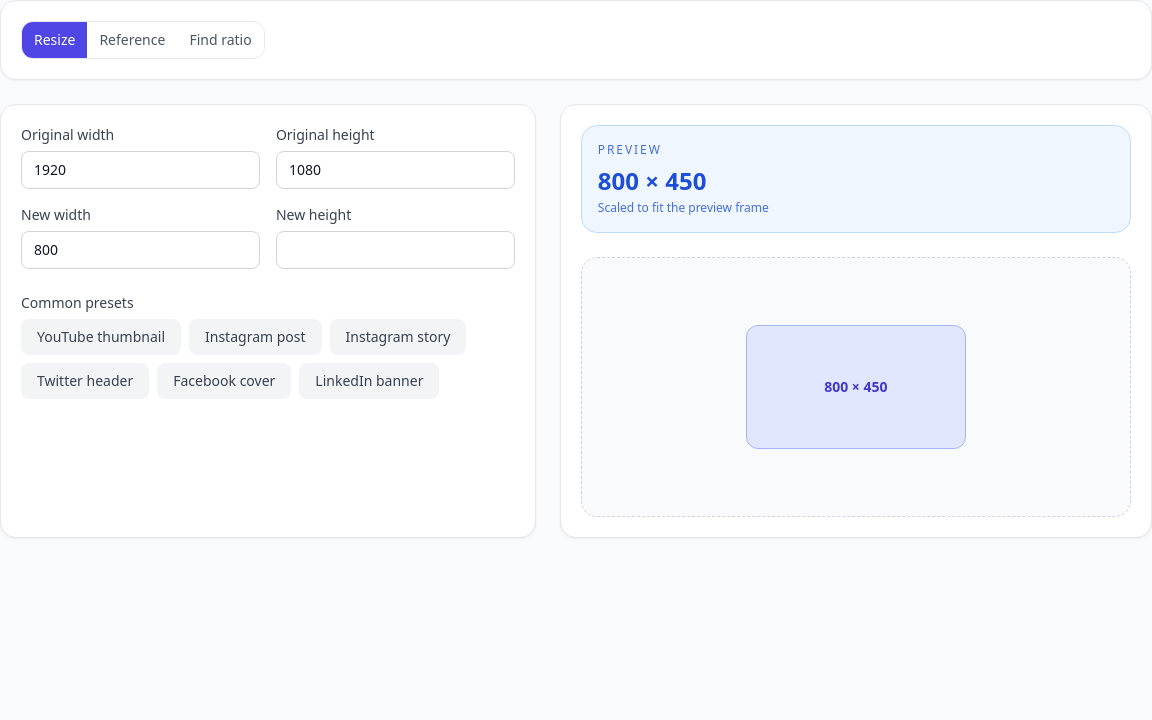
Scenario: AspectRatioCalculator – coverage › switches to Find ratio mode and shows simplified ratio
What coordinates should you click on to do the following:
click the radio button labelled "Find ratio"
I would click on:
 (221, 40)
Its box is [177,22,264,58].
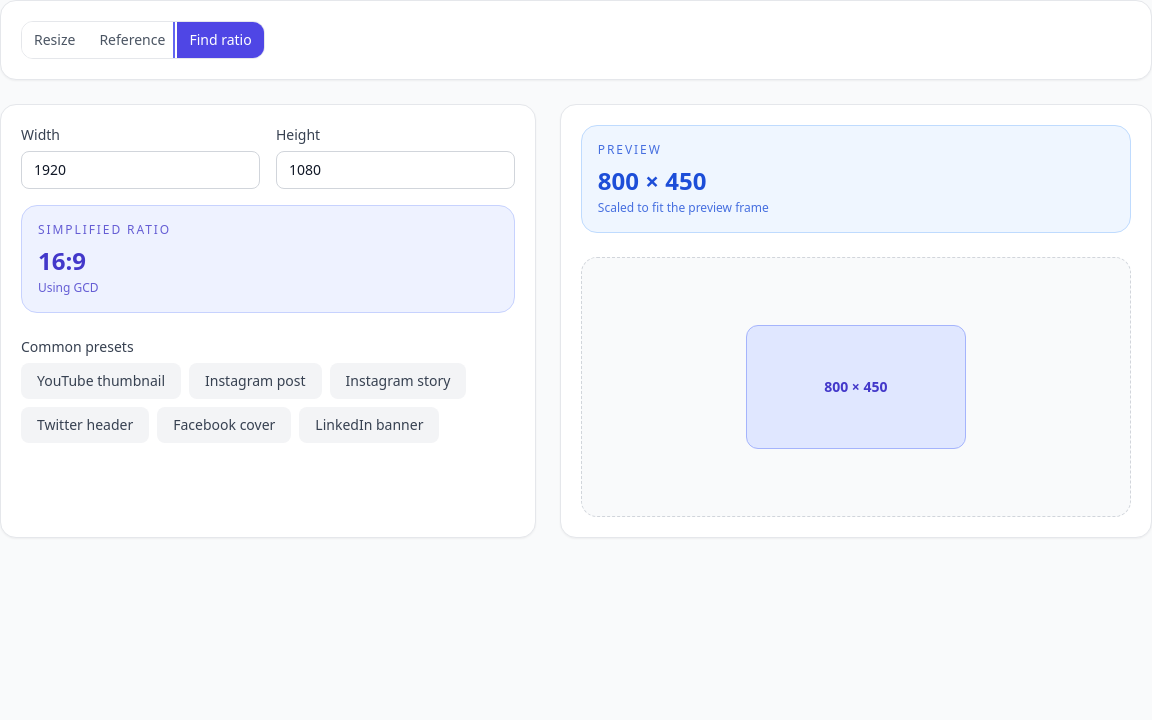
Result: the text "Simplified ratio" is shown at [38,221,171,238]
